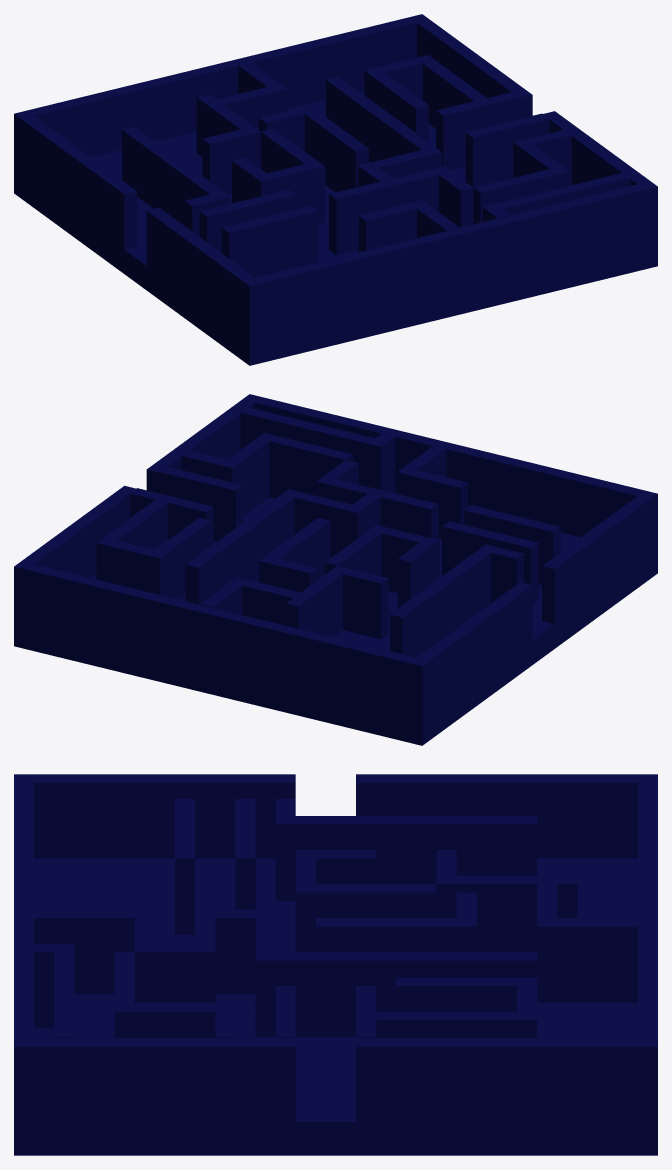
Rendered from maze1.fbx.
3 renders of one model, top to bottom at view 1: azimuth 30°, elevation 25°; view 2: azimuth 150°, elevation 25°; view 3: azimuth 270°, elevation 25°, orthographic. The views are drawn at different scales.
Parts seen in each view (by area): view 1: Cube; view 2: Cube; view 3: Cube.
Boxes of the visible parts, box(x1,y1,x2,y2) form: Cube: box(14, 14, 657, 365); Cube: box(14, 394, 657, 745); Cube: box(14, 774, 657, 1155).
Bounding box in the file's own units: 3483 × 656 × 3483.
